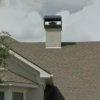Chimney: (37, 4, 84, 61)
